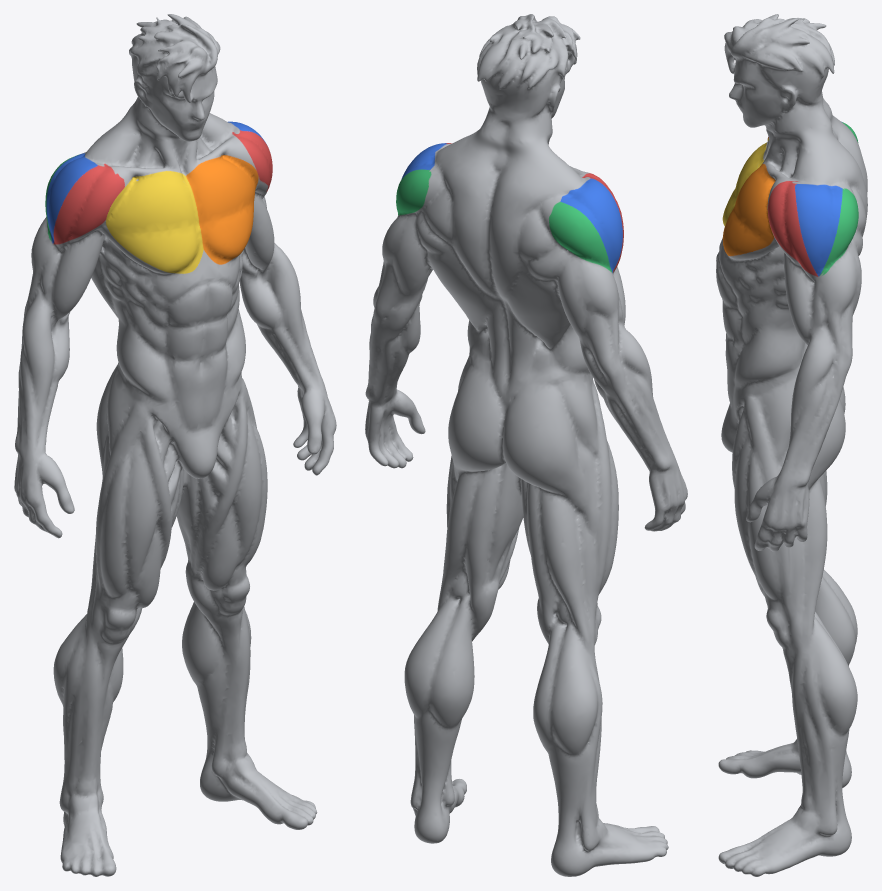
Rendered from meshy-eight-zones-control.glb.
The picture shows the model from 3 angles, left to right: view 1: azimuth 30°, elevation 25°; view 2: azimuth 150°, elevation 25°; view 3: azimuth 270°, elevation 25°; orthographic projection.
Visible parts, largest first — view 1: meshy.anatomical_form.marble_titan.local_neck_finish; view 2: meshy.anatomical_form.marble_titan.local_neck_finish; view 3: meshy.anatomical_form.marble_titan.local_neck_finish.
Boxes of the visible parts, bbox=[...] form: meshy.anatomical_form.marble_titan.local_neck_finish: bbox=[14, 14, 336, 876]; meshy.anatomical_form.marble_titan.local_neck_finish: bbox=[365, 14, 687, 876]; meshy.anatomical_form.marble_titan.local_neck_finish: bbox=[716, 14, 867, 876].
Bounding box in the file's own units: 0.7588 × 1.9 × 0.3255.
Materials: 1 (1 with a texture image).
